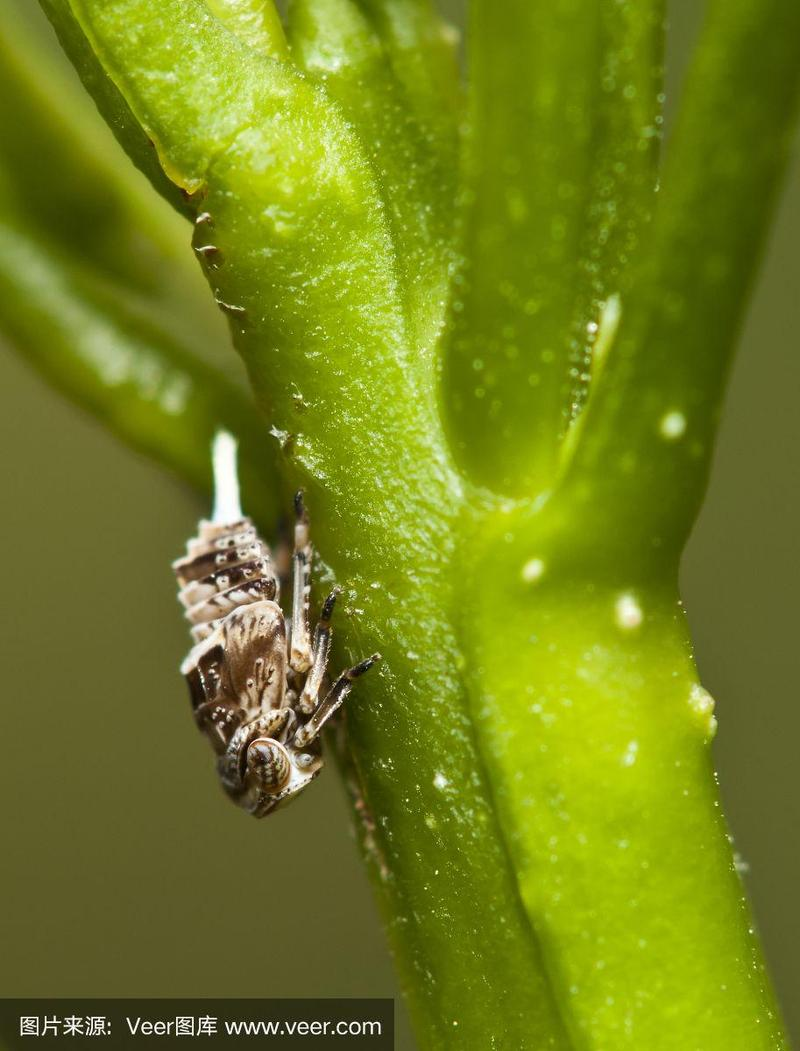Delphacidae: (165, 427, 386, 819)
